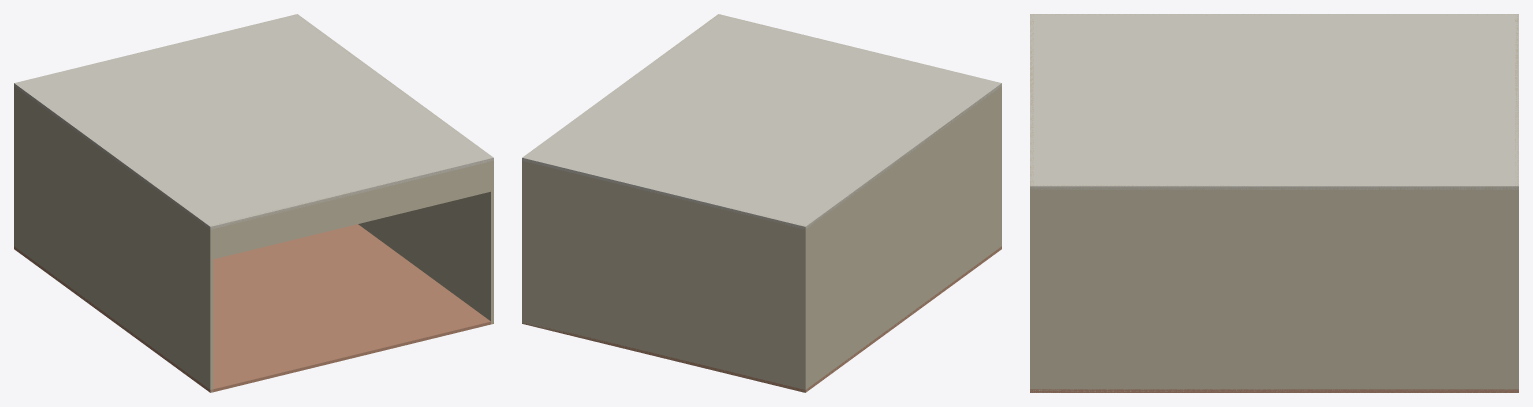
The model's file is kitchen_period_001.glb.
The picture shows the model from 3 angles, left to right: view 1: azimuth 30°, elevation 25°; view 2: azimuth 150°, elevation 25°; view 3: azimuth 270°, elevation 25°; orthographic projection. The views are drawn at different scales.
Parts seen in each view (by area): view 1: ceiling, left_wall, floor, front_top, right_wall; view 2: ceiling, back_wall, left_wall, floor; view 3: right_wall, ceiling, floor, back_wall, front_top.
Boxes of the visible parts, <box> form: ceiling: <box>14,14,493,229</box>; left_wall: <box>14,84,213,392</box>; floor: <box>14,224,493,392</box>; front_top: <box>209,158,490,259</box>; right_wall: <box>295,14,493,324</box>; ceiling: <box>522,14,1001,229</box>; back_wall: <box>522,158,807,392</box>; left_wall: <box>802,83,1001,390</box>; floor: <box>522,246,1001,392</box>; right_wall: <box>1030,185,1518,392</box>; ceiling: <box>1030,14,1518,189</box>; floor: <box>1030,389,1518,392</box>; back_wall: <box>1515,14,1518,392</box>; front_top: <box>1030,14,1033,227</box>.
Bounding box in the file's own units: 5 × 2.8 × 6.
